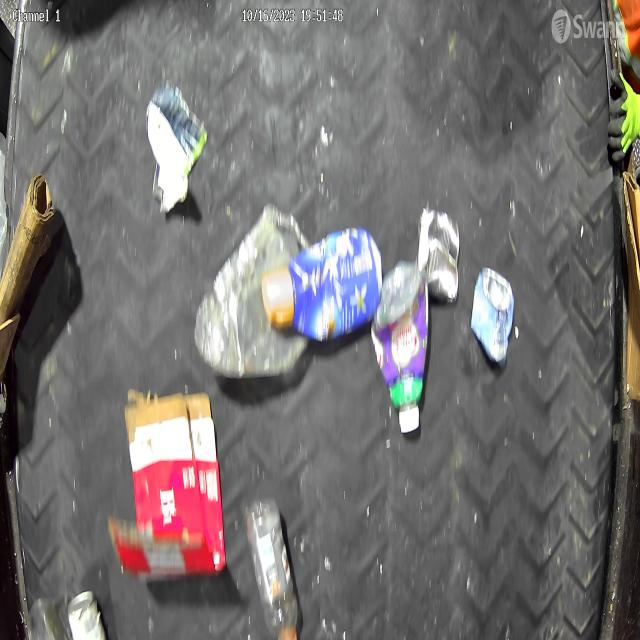can: (417, 203, 465, 308), (472, 257, 514, 366), (65, 585, 113, 640)
non_white_jug: (262, 228, 380, 349)
plastic_bottle: (239, 492, 304, 640)
